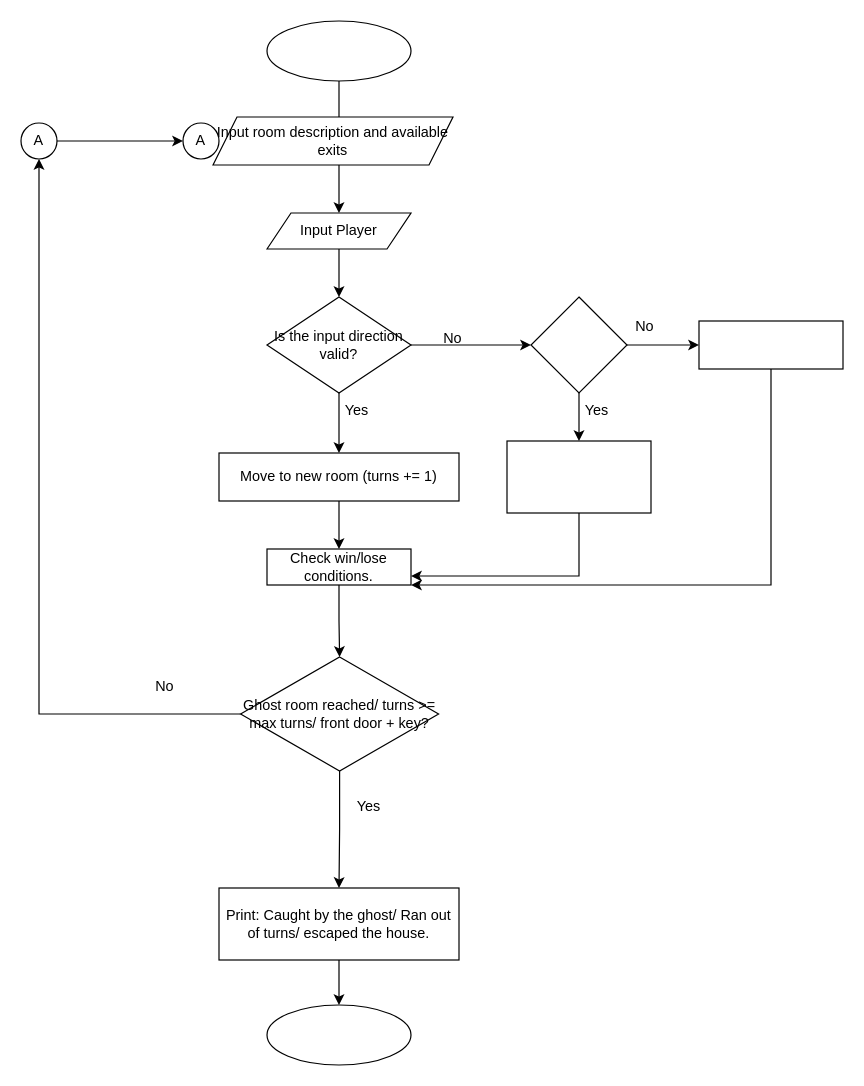
Some shapes in this 864 by 1086 pixel diagram are drawn without their labels. Here are the shapes that lost their labels. From the top down, the centre of each, then its label:
point (338, 50): Start
point (578, 344): Input is "take"?
point (770, 344): Print "Can't go that way."
point (578, 476): Check if item present? If yes: "pick up the item", no: "Nothing to take"
point (338, 1034): Stop
